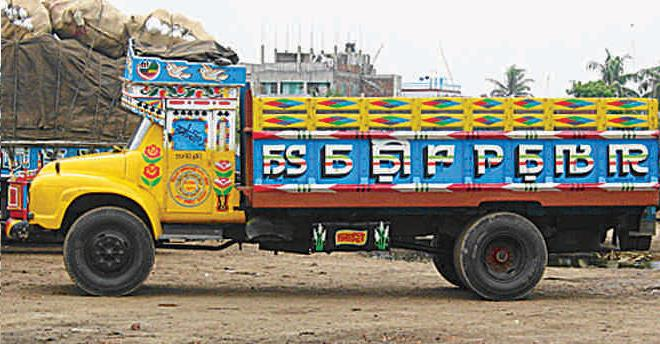truck: (23, 37, 655, 296)
